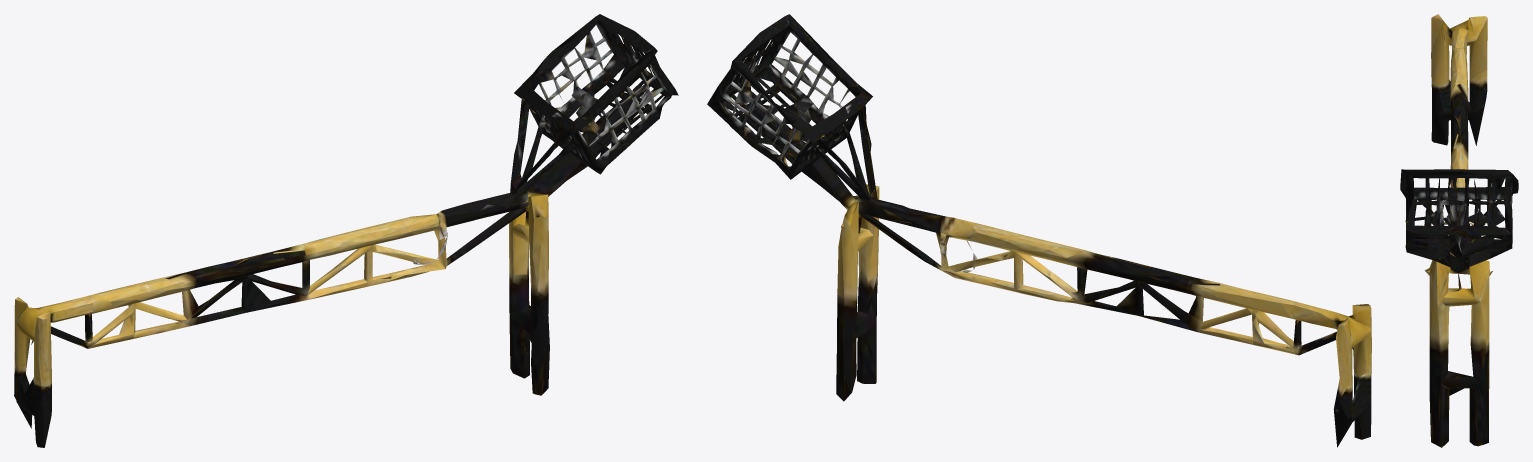
Rendered from portal_security_lod2.glb.
3 renders of one model, left to right at view 1: azimuth 30°, elevation 25°; view 2: azimuth 150°, elevation 25°; view 3: azimuth 270°, elevation 25°, orthographic. The views are drawn at different scales.
Parts seen in each view (by area): view 1: tripo_node_8666bdef-1560-4069-abcf-ac72795536e7; view 2: tripo_node_8666bdef-1560-4069-abcf-ac72795536e7; view 3: tripo_node_8666bdef-1560-4069-abcf-ac72795536e7.
Boxes of the visible parts, x1=… form: tripo_node_8666bdef-1560-4069-abcf-ac72795536e7: x1=14, y1=14, x2=678, y2=447; tripo_node_8666bdef-1560-4069-abcf-ac72795536e7: x1=707, y1=14, x2=1371, y2=447; tripo_node_8666bdef-1560-4069-abcf-ac72795536e7: x1=1400, y1=14, x2=1518, y2=447.
Size of the model in its own units: 0.9984 by 0.504 by 0.1685.
Materials: 1 (1 with a texture image).
